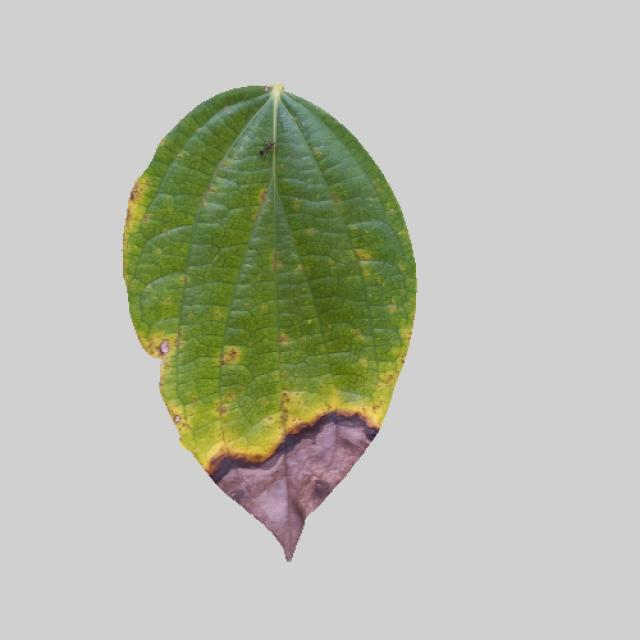leaf-blight: (114, 88, 422, 557)
